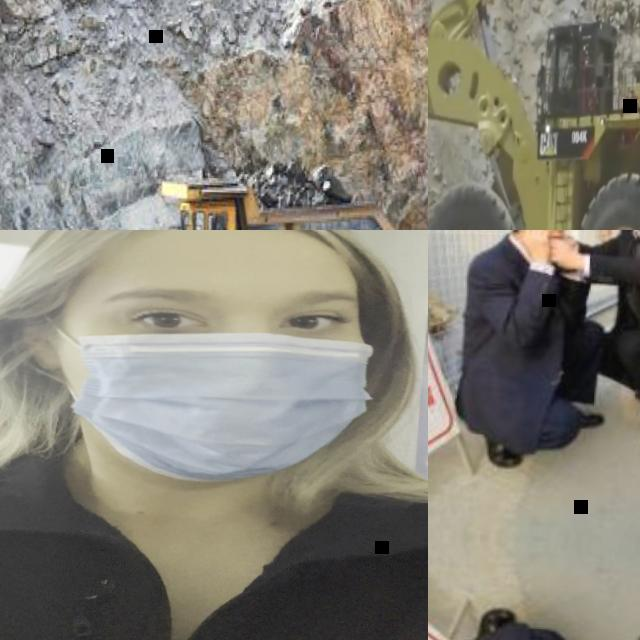Mask: (81, 331, 379, 480)
NO-Hardhat: (20, 230, 372, 291)
NO-Mask: (532, 230, 563, 243)
NO-Safety Vest: (0, 451, 428, 640), (464, 244, 572, 363), (604, 230, 640, 321)
Person: (0, 230, 428, 640), (452, 230, 597, 469), (541, 230, 640, 448)
vehicle: (428, 0, 640, 230), (134, 158, 405, 230)
